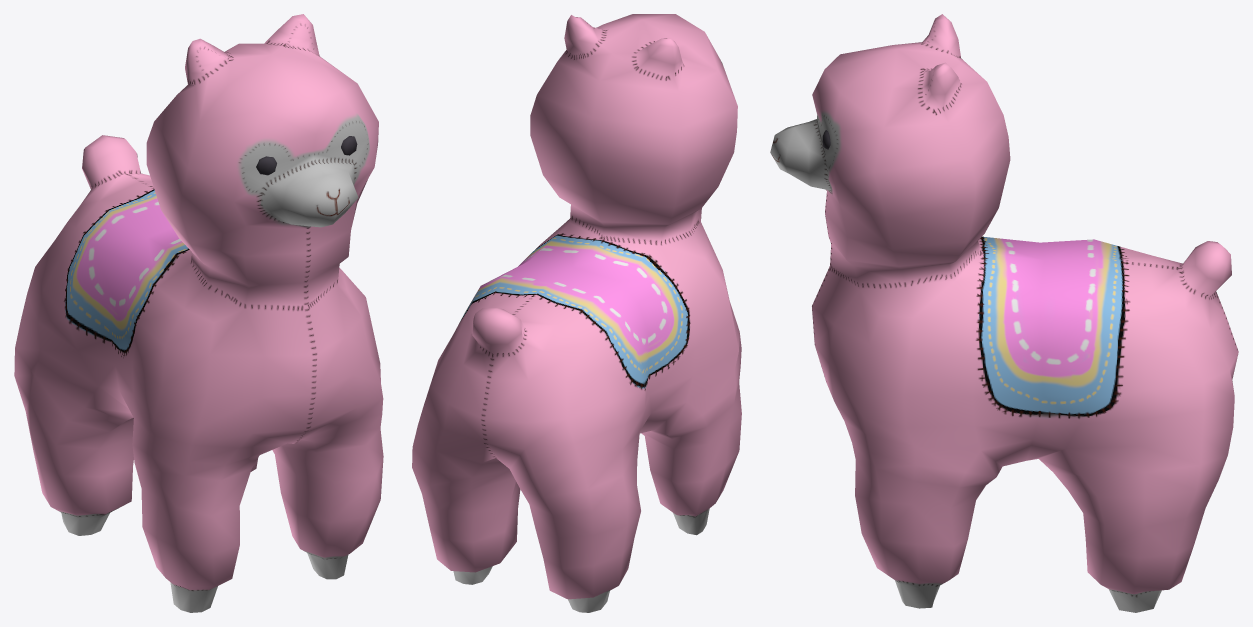
Rendered from llama.fbx.
3 renders of one model, left to right at view 1: azimuth 30°, elevation 25°; view 2: azimuth 150°, elevation 25°; view 3: azimuth 270°, elevation 25°, orthographic. The views are drawn at different scales.
Visible parts, largest first — view 1: Box001; view 2: Box001; view 3: Box001.
Boxes of the visible parts, box(x1,y1,x2,y2) form: Box001: box(14, 14, 383, 612); Box001: box(412, 14, 741, 612); Box001: box(770, 14, 1238, 612).
Bounding box in the file's own units: 79.19 × 185 × 146.
Materials: 1 (1 with a texture image).
